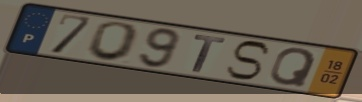7: (49, 13, 94, 56)
9: (136, 27, 182, 71)
O: (84, 20, 144, 63)
Q: (268, 47, 319, 89)
S: (223, 39, 273, 81)
T: (190, 33, 228, 74)
